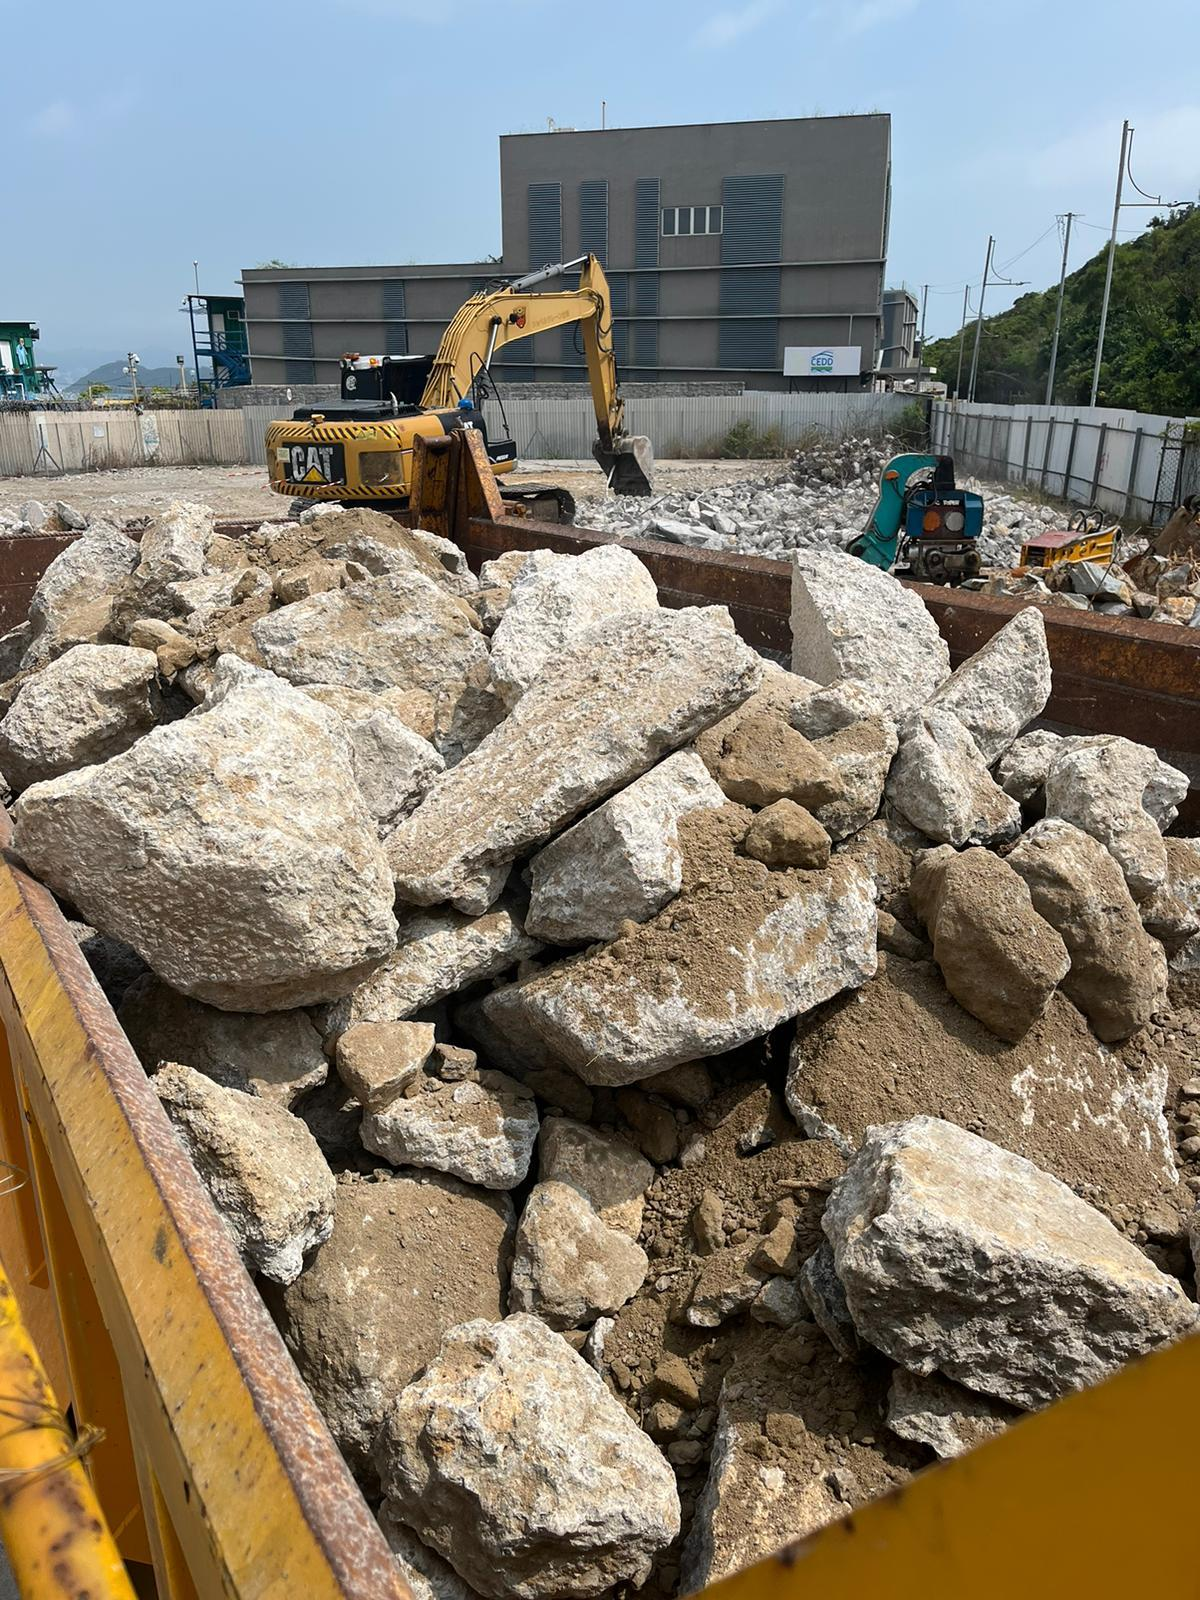dry: (0, 523, 1192, 1592)
